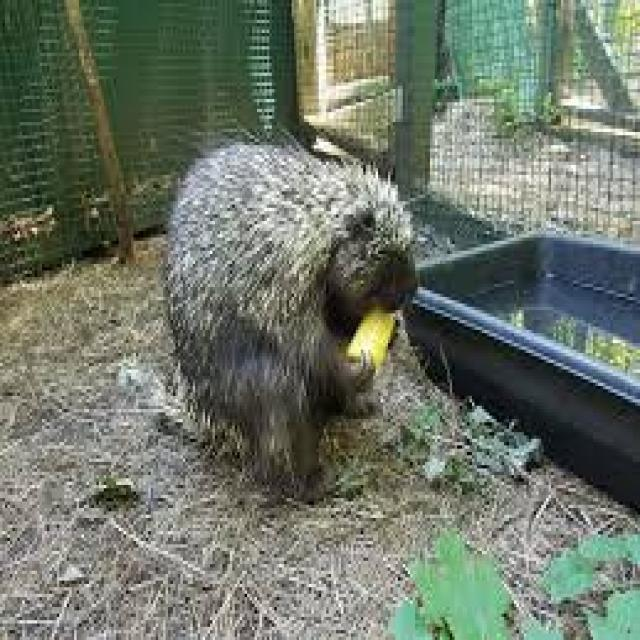Porcupine: (154, 140, 417, 487)
